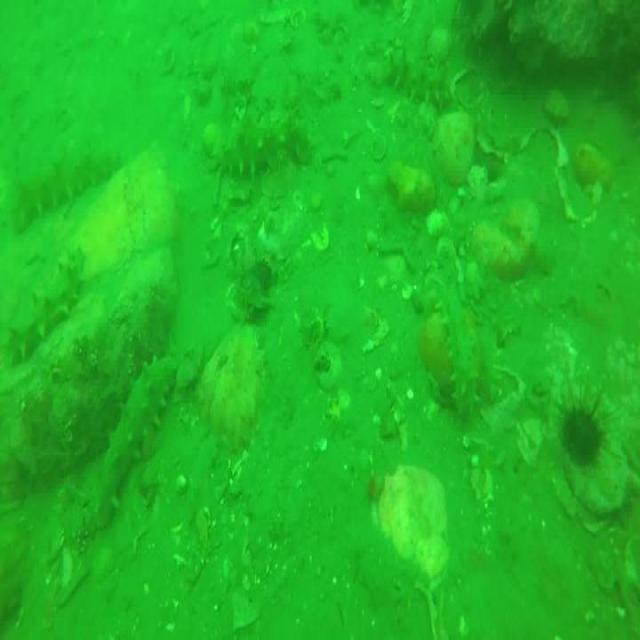echinus: (558, 384, 610, 479)
holothurian: (71, 357, 207, 528), (4, 245, 98, 367), (13, 144, 124, 226), (425, 283, 480, 417), (218, 114, 303, 177), (388, 44, 447, 112)
scallop: (260, 205, 314, 261), (315, 345, 342, 387), (428, 206, 453, 236)
